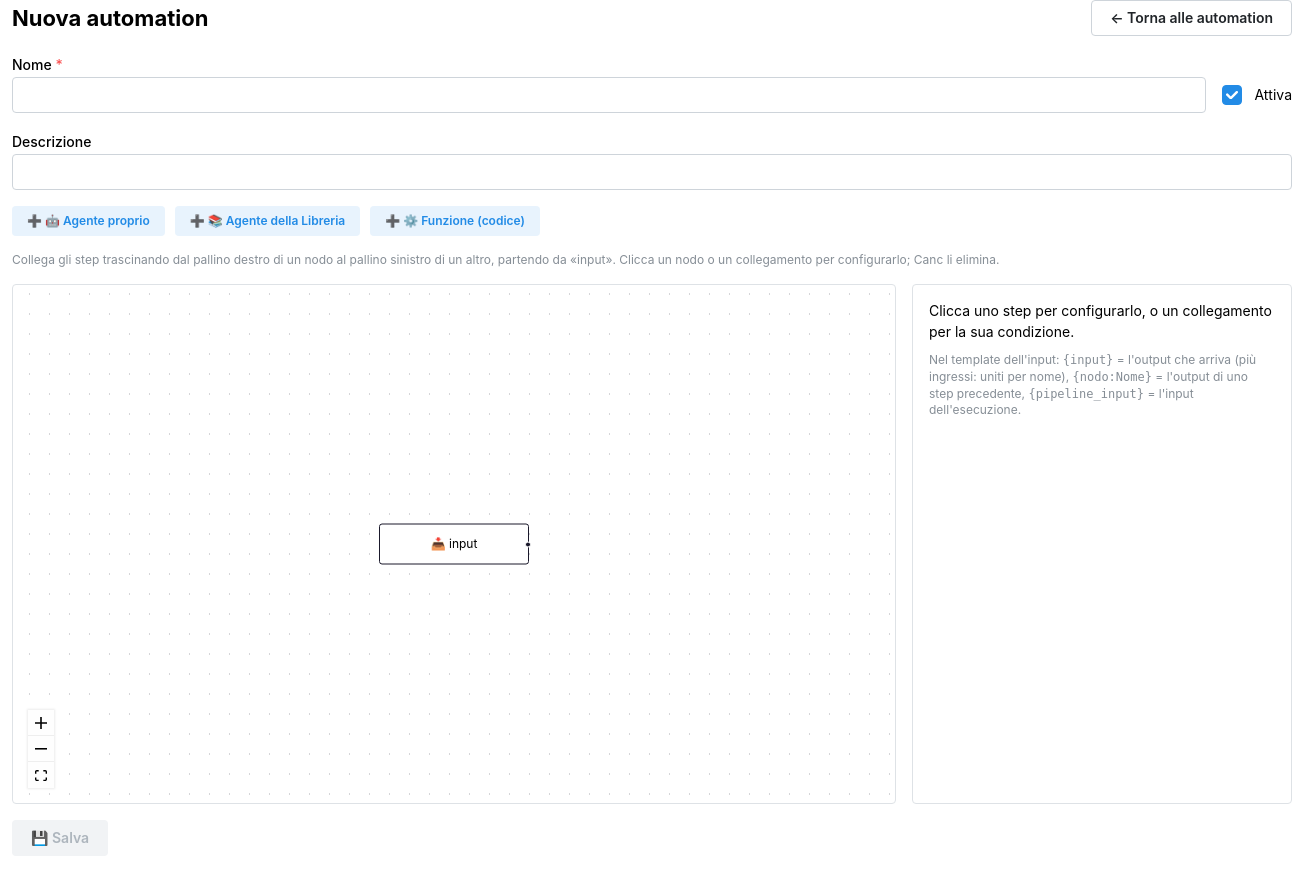
Scenario: AutomationEditor › refuses to save steps that are not connected
Type "Nuova" into the field labelled "Nome *" at (609, 95), box 12,77 -> 1206,113
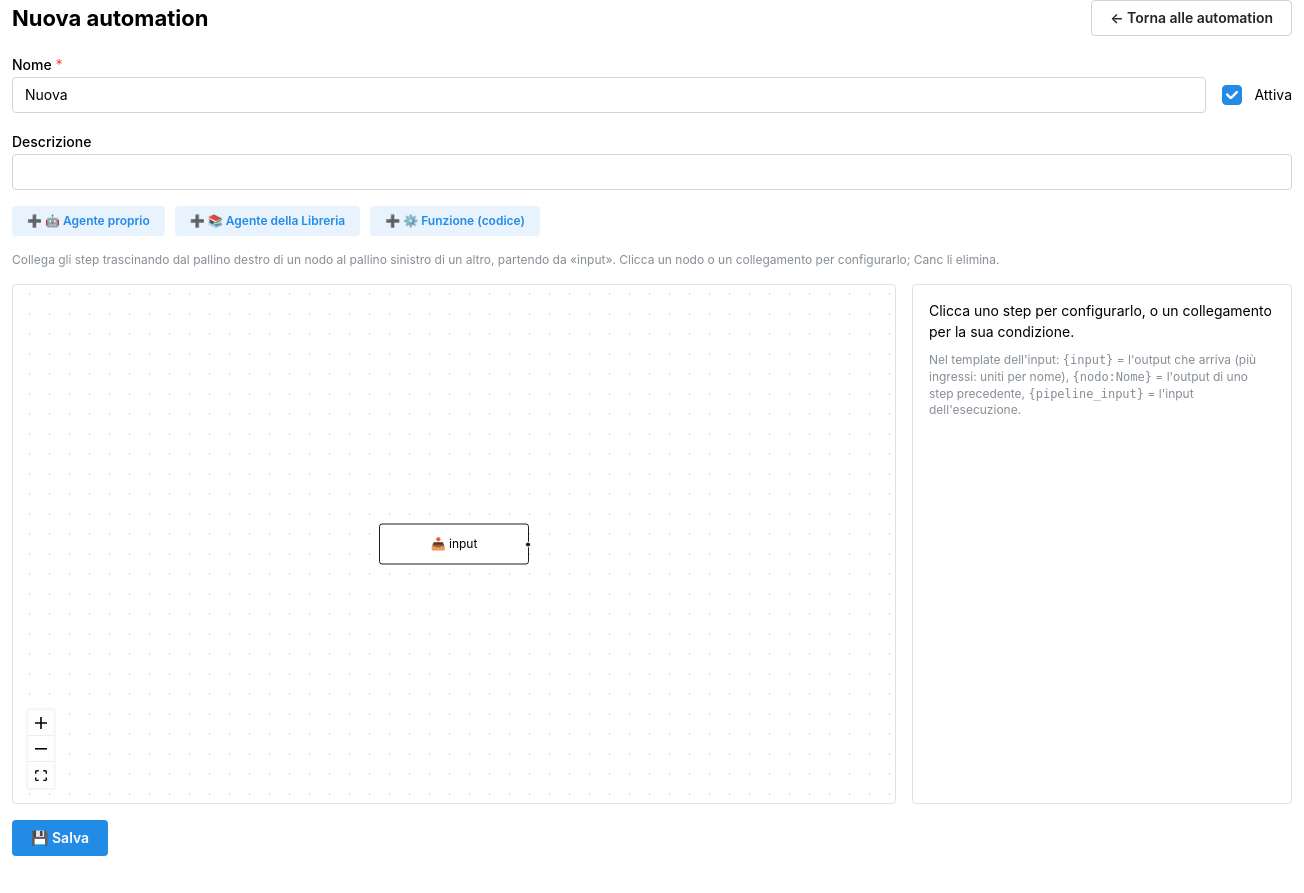
Click the button "➕ ⚙️ Funzione (codice)" at (455, 221), box 370,206 -> 540,236
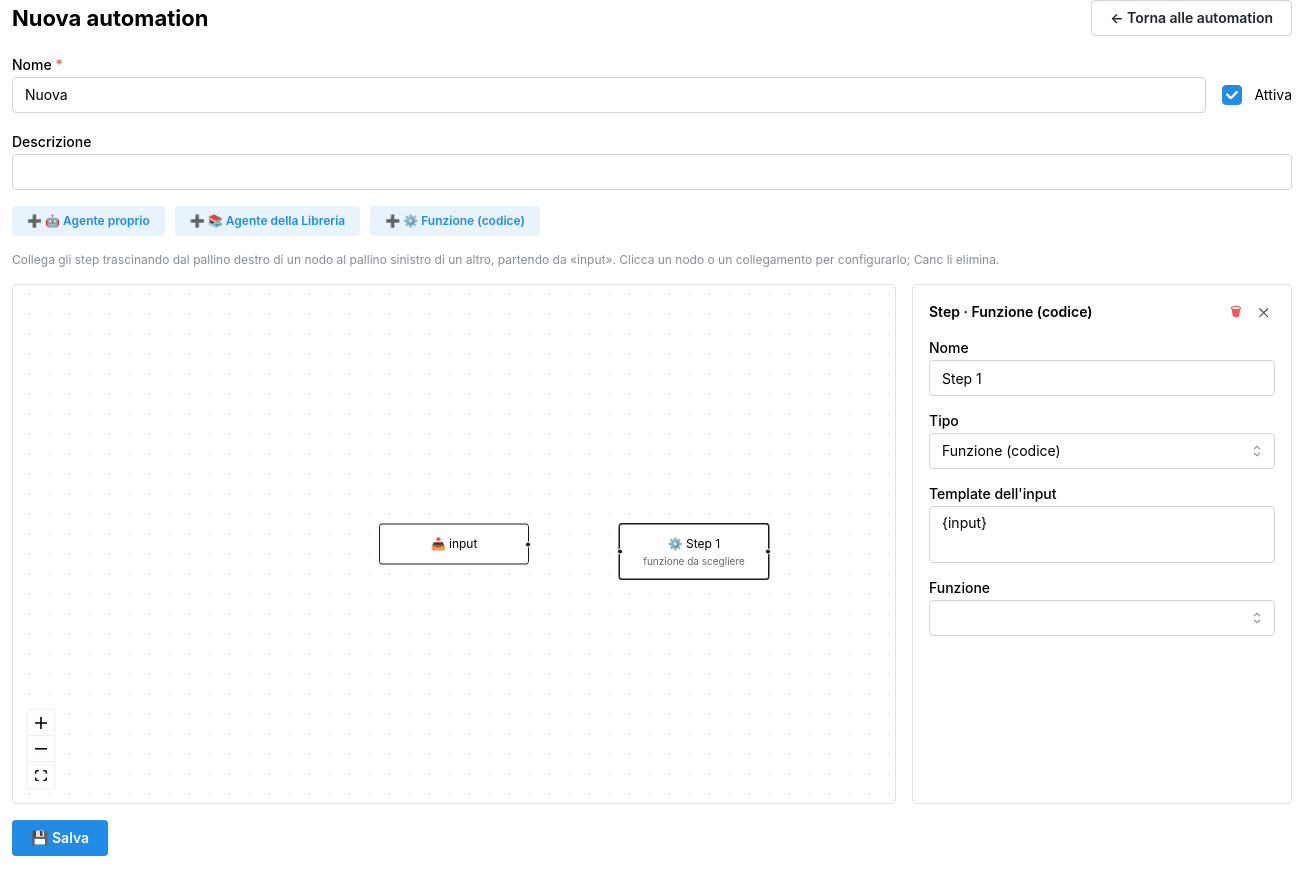
Check: the field showing "Step 1" is shown, box 929,360 -> 1275,396
Click the button "💾 Salva" at (60, 838), box 12,820 -> 108,856
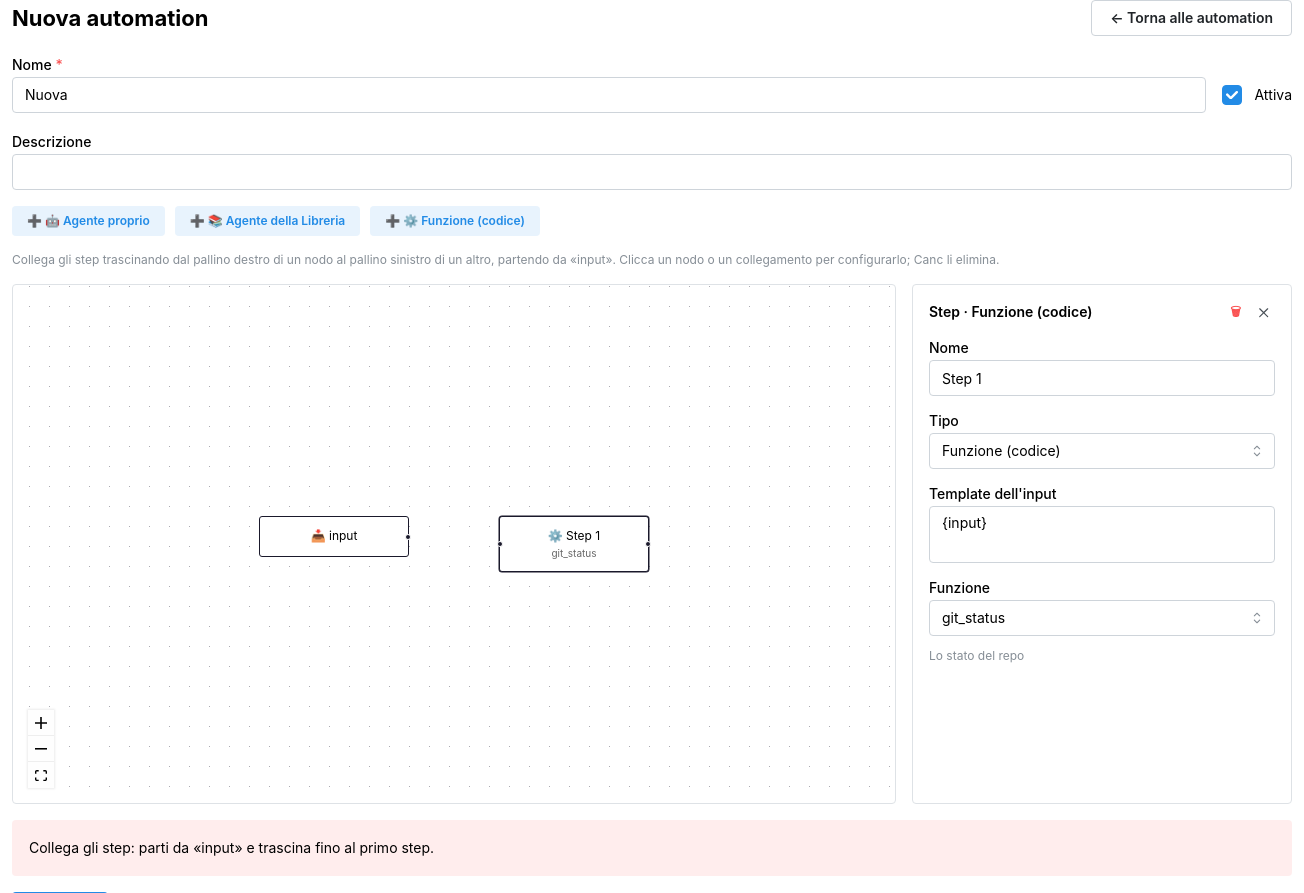
Check: the text "parti da «input» e trascina fino al primo step" is shown, box 29,839 -> 434,856
